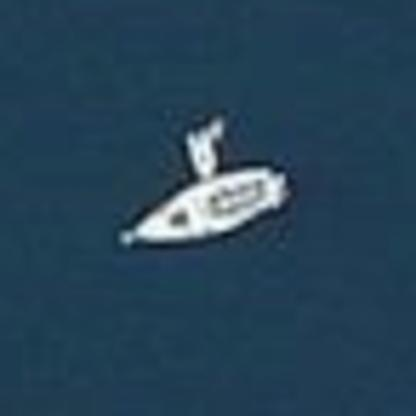ship: (106, 104, 300, 260)
